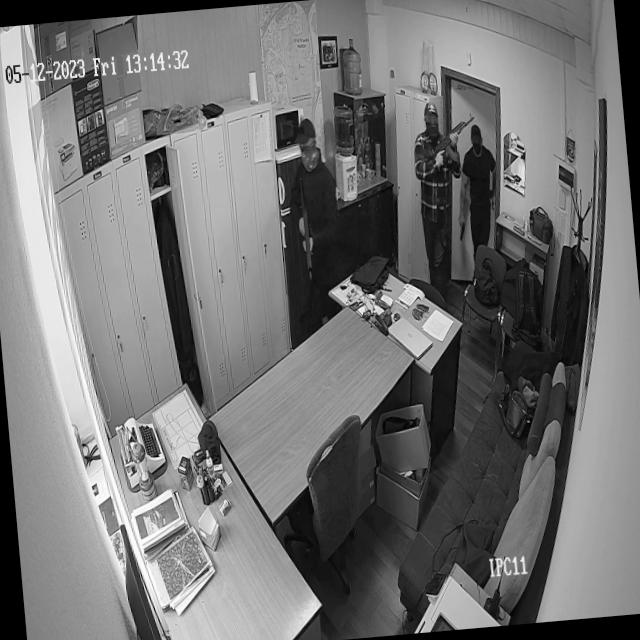gun: (430, 112, 478, 159), (296, 182, 316, 281), (458, 219, 467, 241)
person: (290, 117, 344, 313), (410, 102, 460, 291)
person with a gun: (411, 102, 466, 285), (290, 118, 342, 306), (454, 122, 499, 249)
